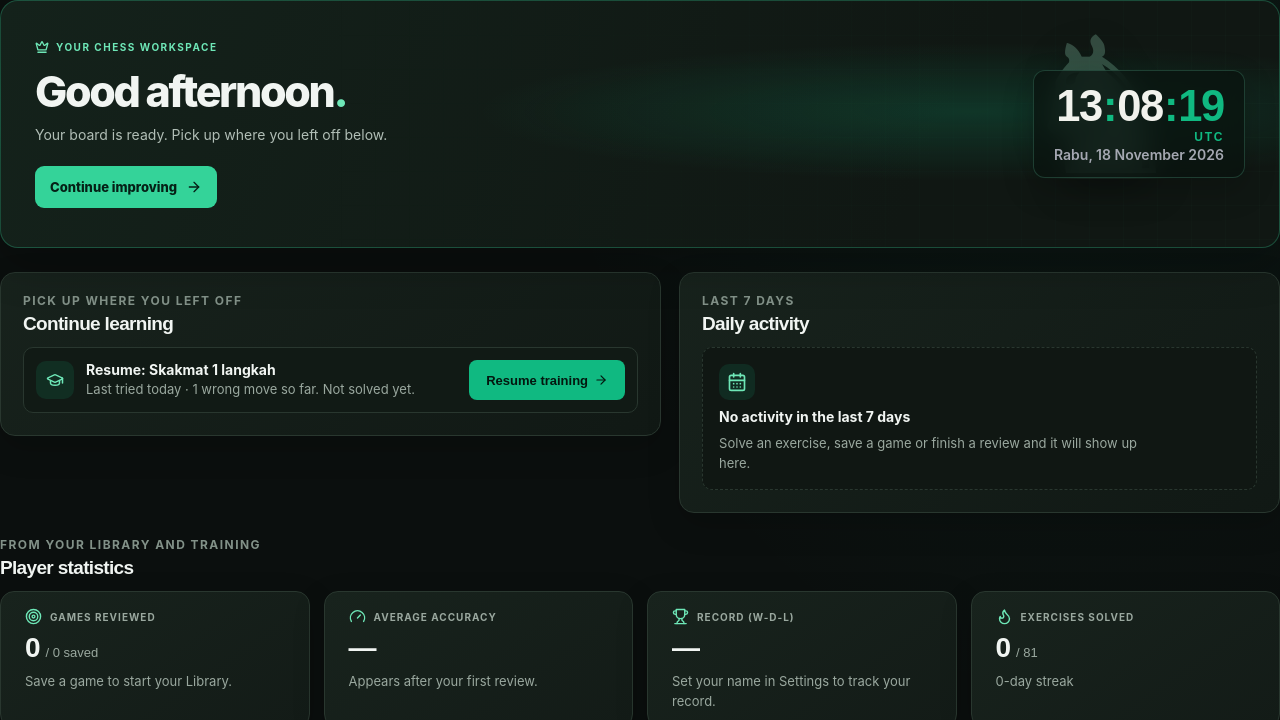
Test: Dashboard: Continue learning › resumes an unsolved exercise through a deep link to it
Expected: the text "Resume: Skakmat 1 langkah" is shown, x1=86 y1=361 x2=276 y2=378
Expected: the text "Last tried today · 1 wrong move so far. Not solved yet." is shown, x1=86 y1=380 x2=457 y2=399
Click the link "Resume training": (547, 380) x1=469 y1=360 x2=625 y2=400
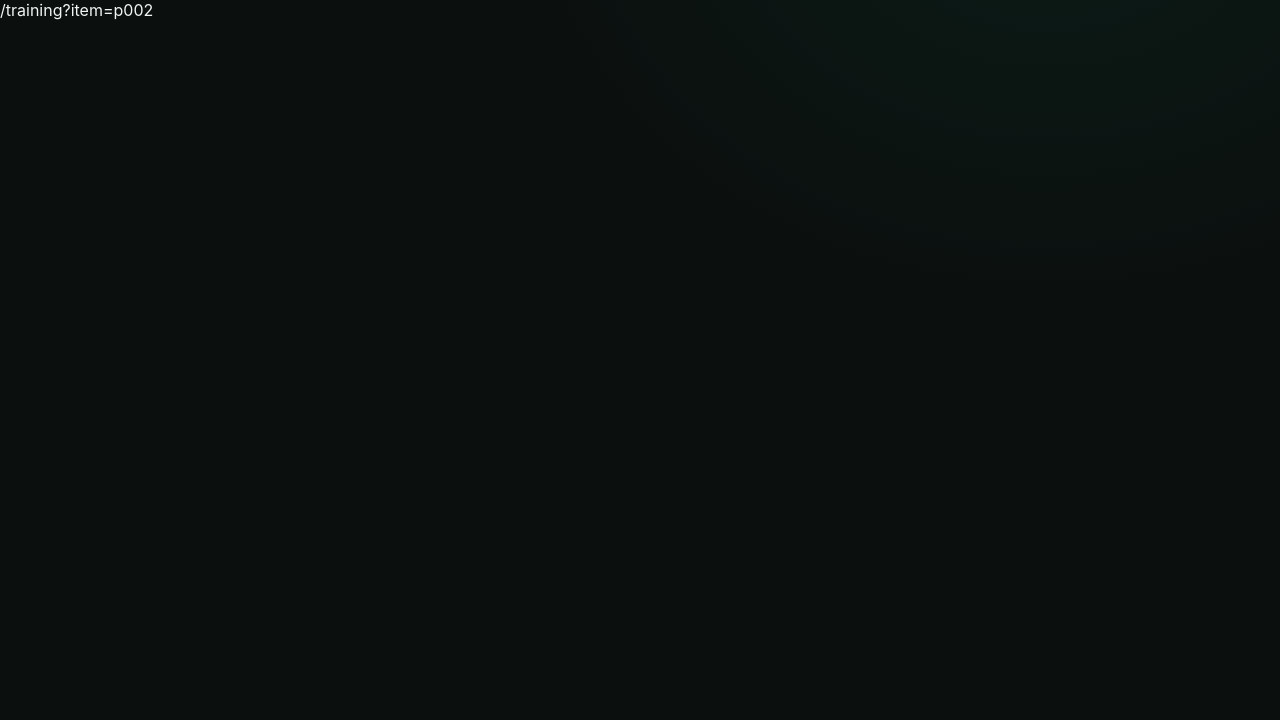
Expected: the text with test id "location" reads "/training?item=p002", x1=0 y1=0 x2=153 y2=20
